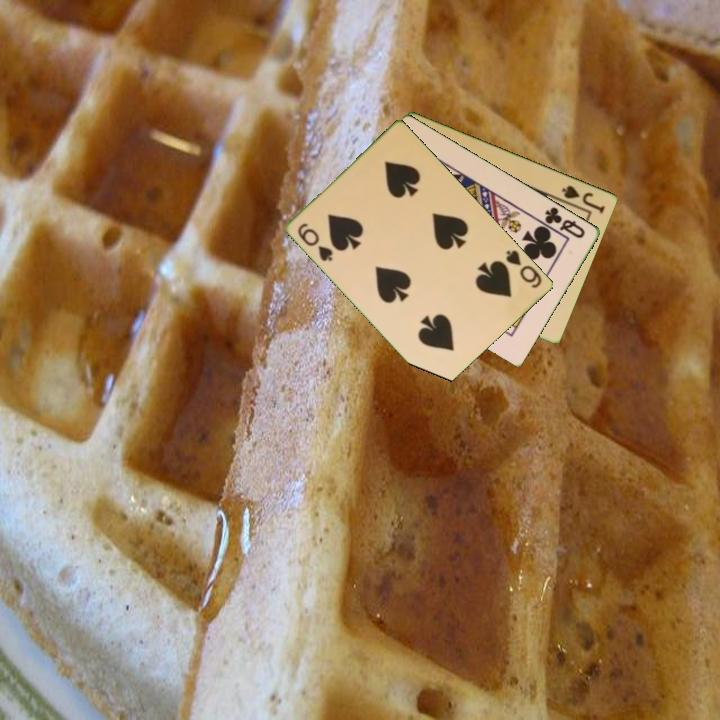6s: (294, 219, 336, 265), (503, 246, 545, 291)
Js: (558, 181, 608, 216)
Qc: (541, 203, 588, 241)
